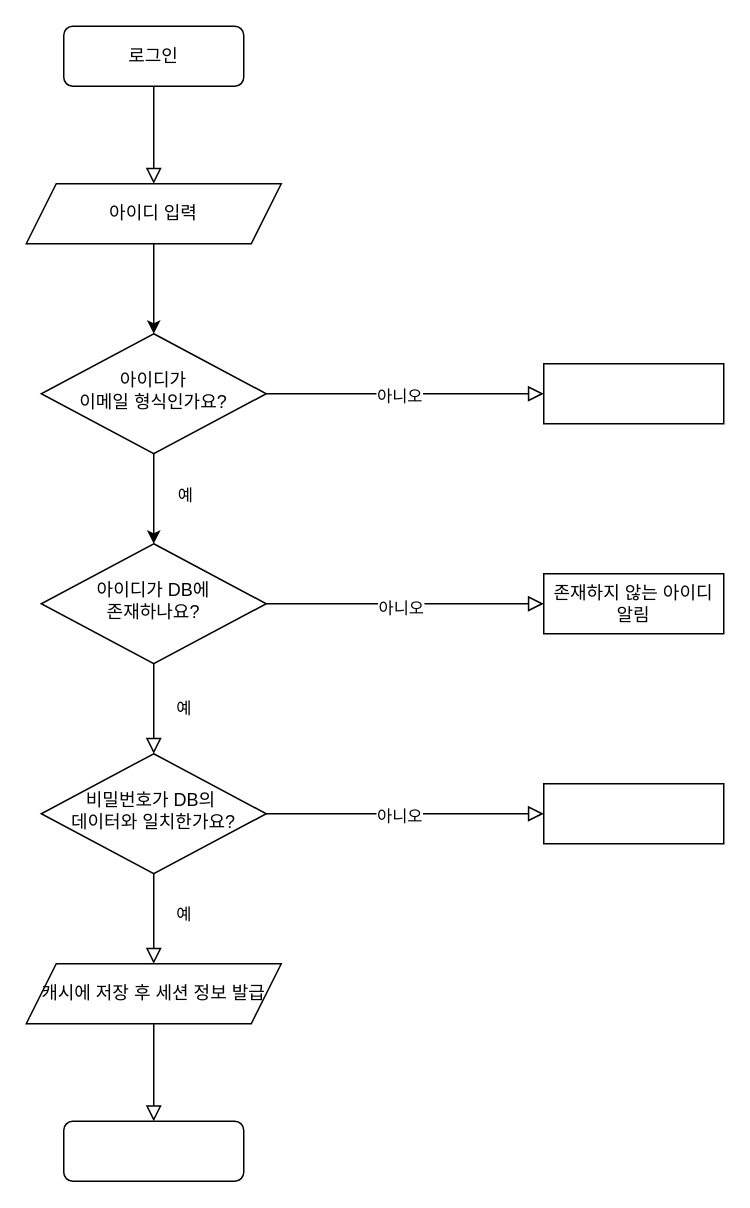
Some shapes in this 750 by 1208 pixel diagram are drawn without their labels. The shapes that lost their labels are listed below. From the top down, each one's centre as x and y in pixels, then its label:
At (x=633, y=393): "유효하지 않은 이메일 형식 알림".
At (x=633, y=813): "비밀번호 불일치 알림".
At (x=153, y=1150): "로그인 완료".
